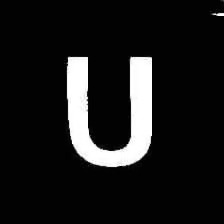LTR_U: (58, 44, 156, 172)
